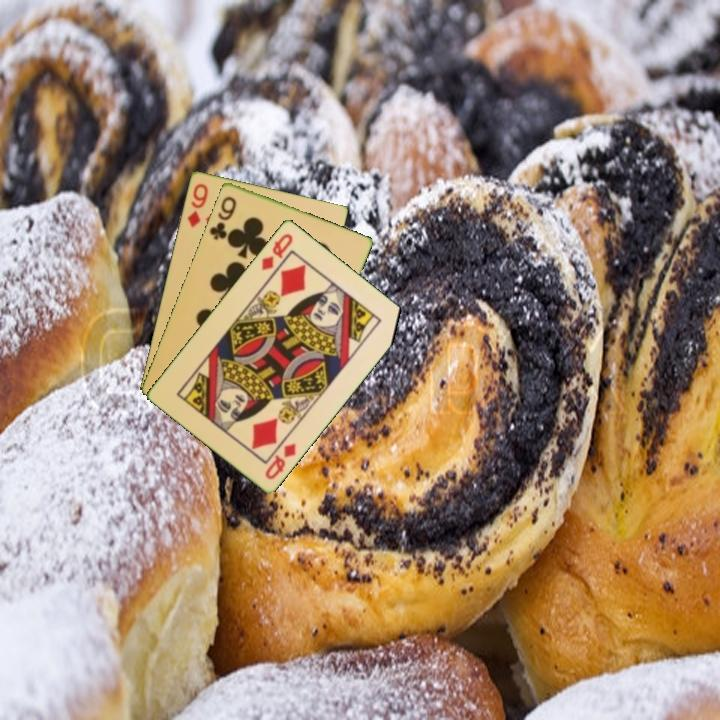9c: (205, 192, 239, 243)
9d: (184, 180, 211, 230)
Qd: (258, 230, 296, 273), (261, 439, 299, 482)
